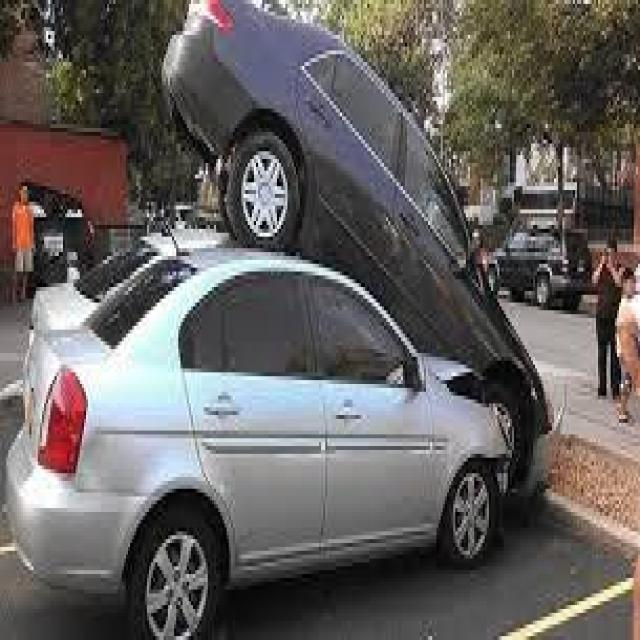accident: (0, 0, 567, 640)
